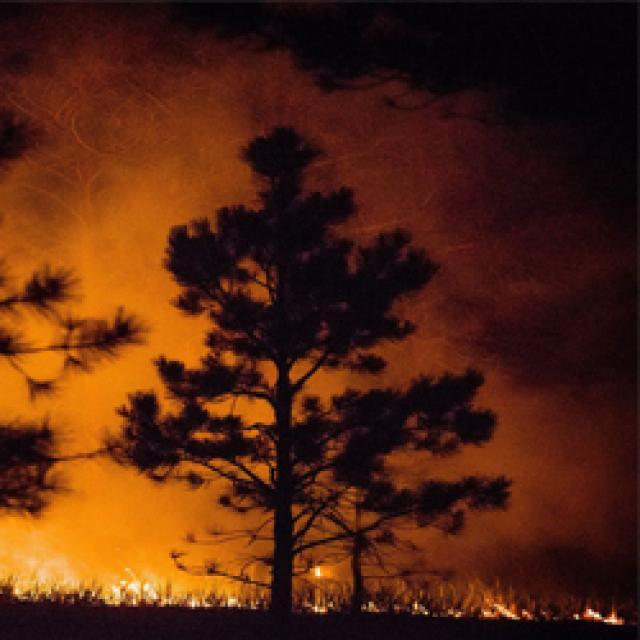Fire: (0, 536, 262, 630), (454, 574, 542, 626), (300, 578, 362, 620), (577, 593, 640, 633), (404, 594, 446, 614)
Smoke: (0, 23, 628, 558), (0, 0, 290, 512), (299, 542, 640, 637)
